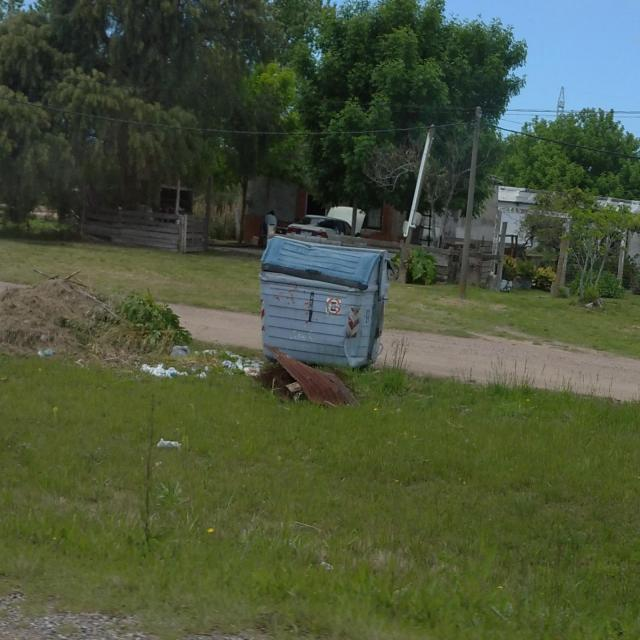garbage: (44, 266, 340, 415)
